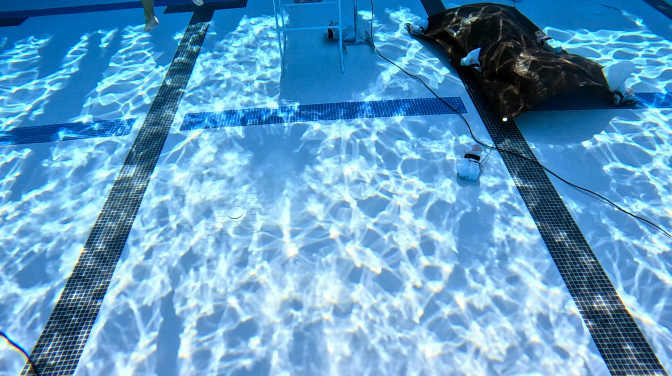sandbag: (408, 3, 635, 125)
